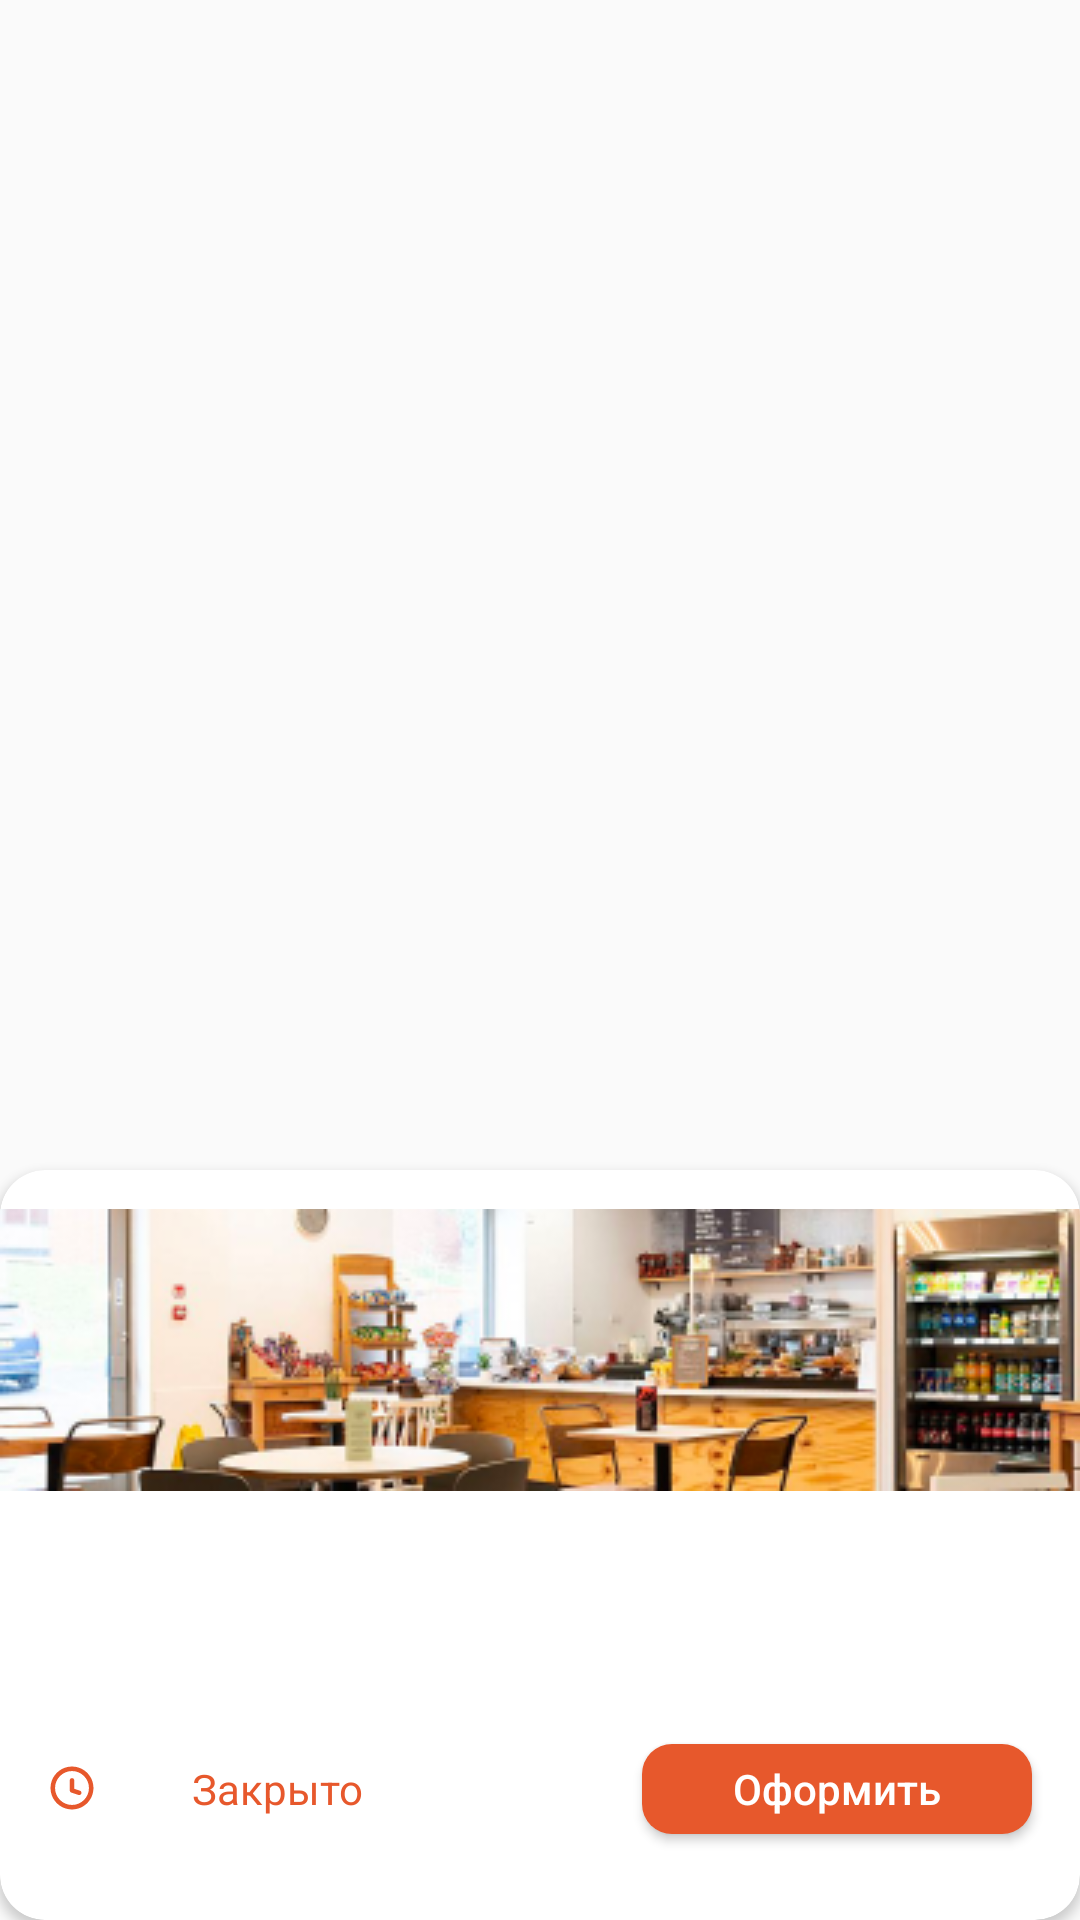

Where to tap for icons on this 1080×1920 app screen, as [x,y]:
clock: [72,1788]
